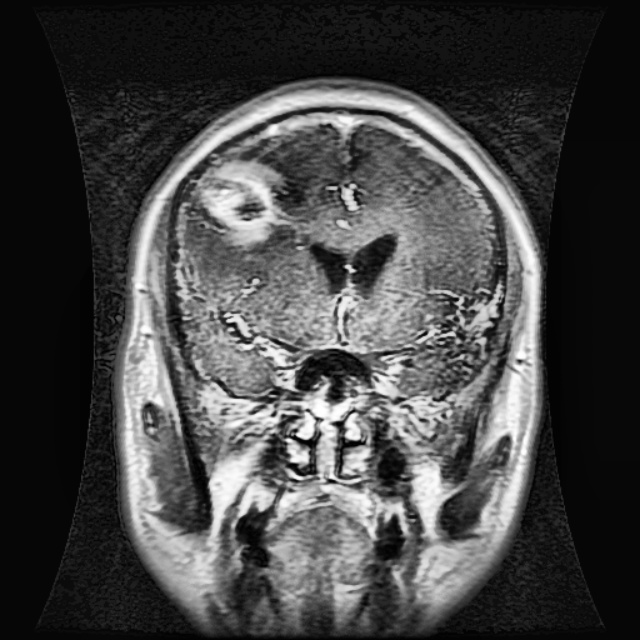Meningioma: (184, 143, 307, 247)
